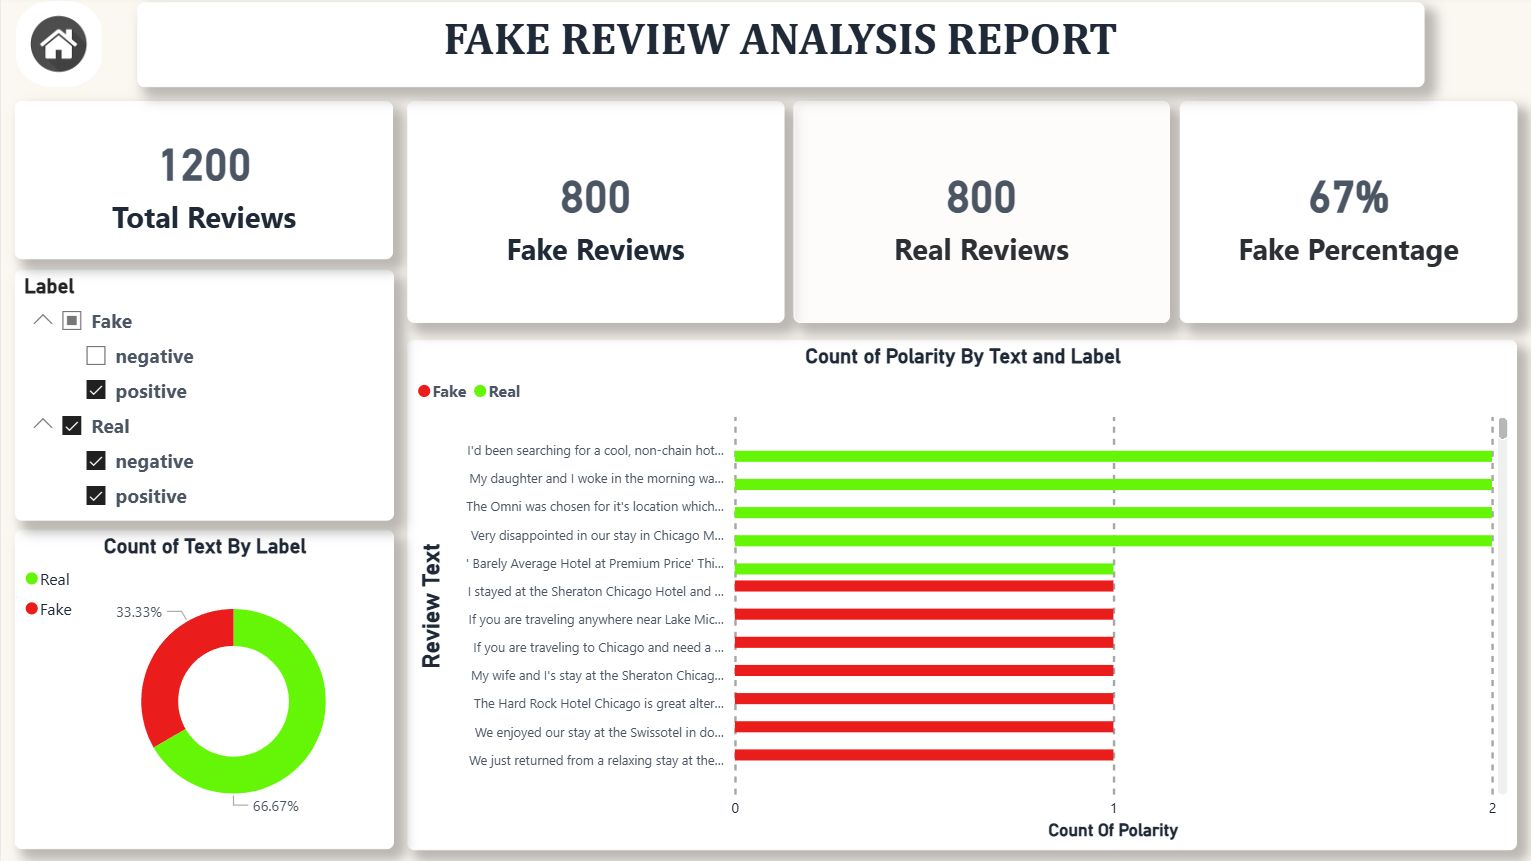

Layout of this report page (visuals, bound fields, positions):
{"tool":"powerbi","page":{"name":"Overview","canvas":[1280,720],"ordinal":0},"visuals":[{"type":"clusteredBarChart","title":"Count of Polarity By Text and Label","fields":{"Category":["deceptive-opinion.text"],"Y":["CountNonNull(deceptive-opinion.polarity)"],"Series":["deceptive-opinion.Label"]},"box":[336.5,284.5,920.3,423.4],"z":0},{"type":"donutChart","title":"Count of Text By Label","fields":{"Category":["deceptive-opinion.Label"],"Y":["CountNonNull(deceptive-opinion.text)"]},"box":[11.4,442.8,314.1,265.2],"z":1000},{"type":"slicer","title":"Label","fields":{"Values":["deceptive-opinion.Label","deceptive-opinion.polarity"]},"box":[11.4,226.5,314.1,208.3],"z":2000},{"type":"card","fields":{"Values":["deceptive-opinion.Total Reviews"]},"box":[11.3,86.9,313.9,131],"z":3000},{"type":"card","fields":{"Values":["deceptive-opinion.Fake Reviews"]},"box":[336.5,86.9,312.8,184.1],"z":4000},{"type":"card","fields":{"Values":["deceptive-opinion.Real Reviews"]},"box":[657.2,86.9,311.6,184.1],"z":5000},{"type":"card","title":"Real or Fake Percentage","fields":{"Values":["deceptive-opinion.Fake Percentage"]},"box":[976.7,86.9,280,184.1],"z":6000},{"type":"image","box":[11.3,4.5,73.4,71.1],"z":8000},{"type":"textbox","box":[112.9,5.6,1067,70],"z":9000}]}

Visuals, with their boxes in screenshot pixels (x1, y1, x2, y2), scaled from the page's 1280x720 canvas onto the 1531x861 screenshot:
"Count of Polarity By Text and Label" clusteredBarChart: 402:340:1503:847
"Count of Text By Label" donutChart: 14:530:389:847
"Label" slicer: 14:271:389:520
card - deceptive-opinion.Total Reviews: 14:104:389:261
card - deceptive-opinion.Fake Reviews: 402:104:777:324
card - deceptive-opinion.Real Reviews: 786:104:1159:324
"Real or Fake Percentage" card: 1168:104:1503:324
image: 14:5:101:90
textbox: 135:7:1411:90
